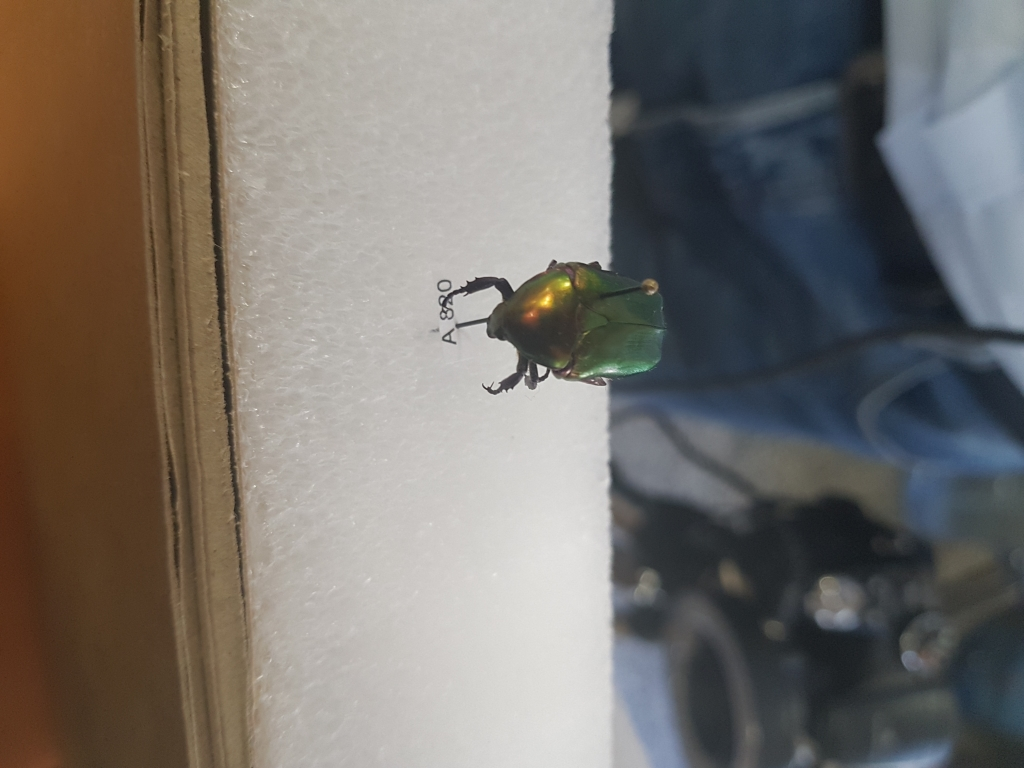Protaetia_cuprea_ignicollis: (439, 257, 679, 405)
